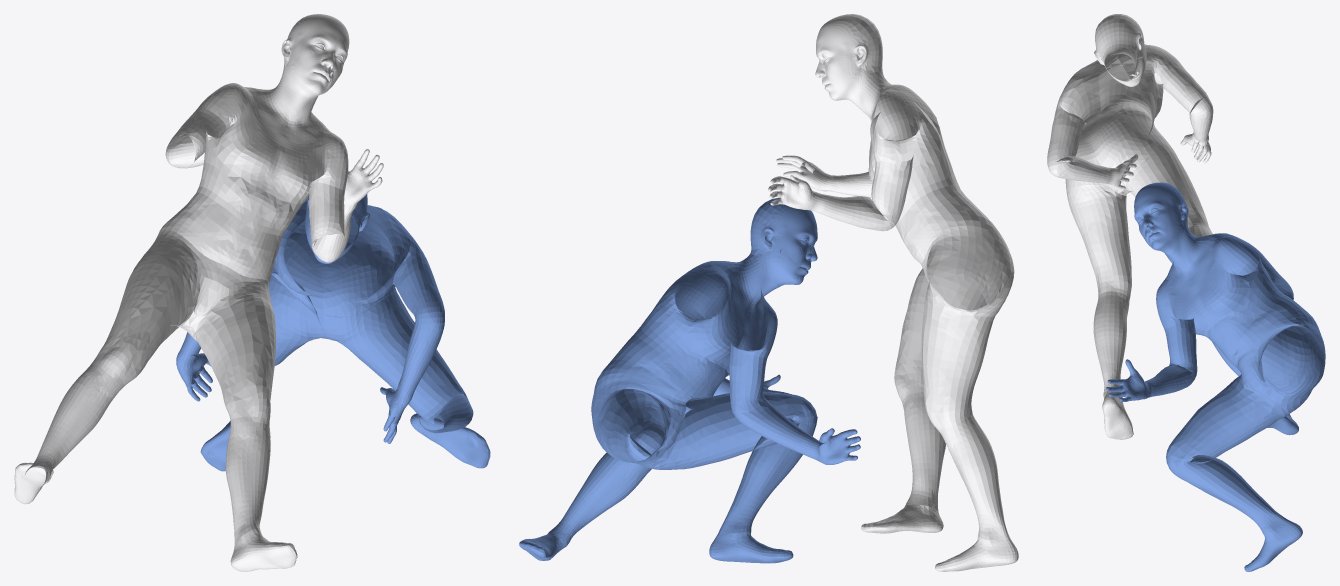
File: double-leg-2-level-change.glb
The picture shows the model from 3 angles, left to right: view 1: azimuth 30°, elevation 25°; view 2: azimuth 150°, elevation 25°; view 3: azimuth 270°, elevation 25°; orthographic projection. The views are drawn at different scales.
Parts seen in each view (by area): view 1: p0, p1; view 2: p0, p1; view 3: p1, p0.
Part boxes in pixels (box(x1,y1,x2,y2)): p0: box(14, 14, 383, 571); p1: box(176, 171, 490, 471); p0: box(768, 14, 1018, 571); p1: box(519, 197, 860, 563); p1: box(1106, 182, 1325, 571); p0: box(1047, 14, 1213, 439).
Size of the model in its own units: 1.54 by 1.69 by 0.93.
